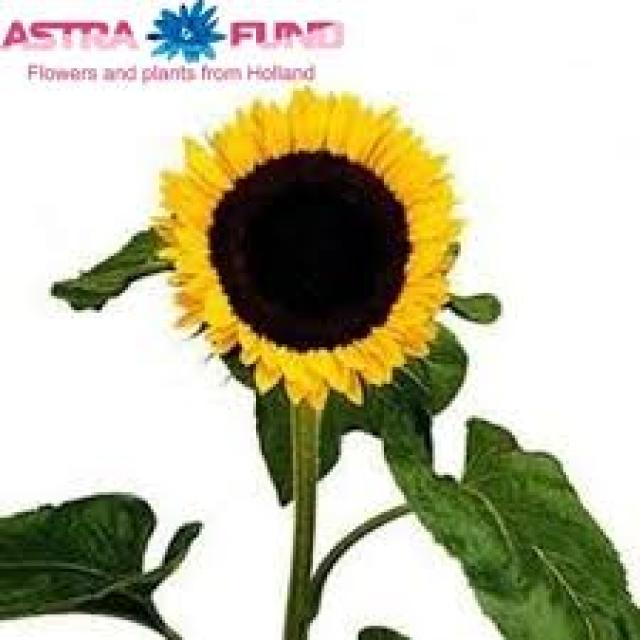sunflower: (136, 71, 483, 419)
